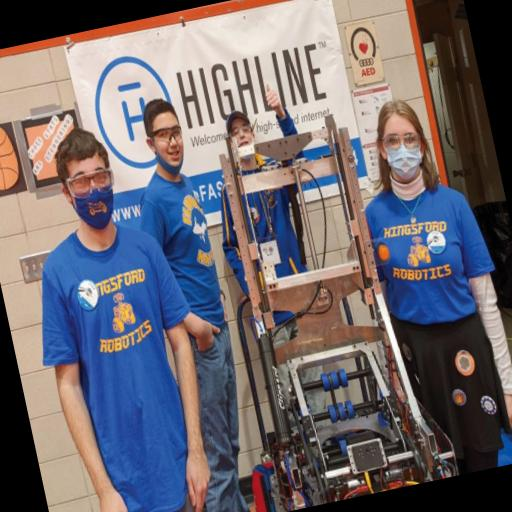robot: (176, 107, 461, 512)
